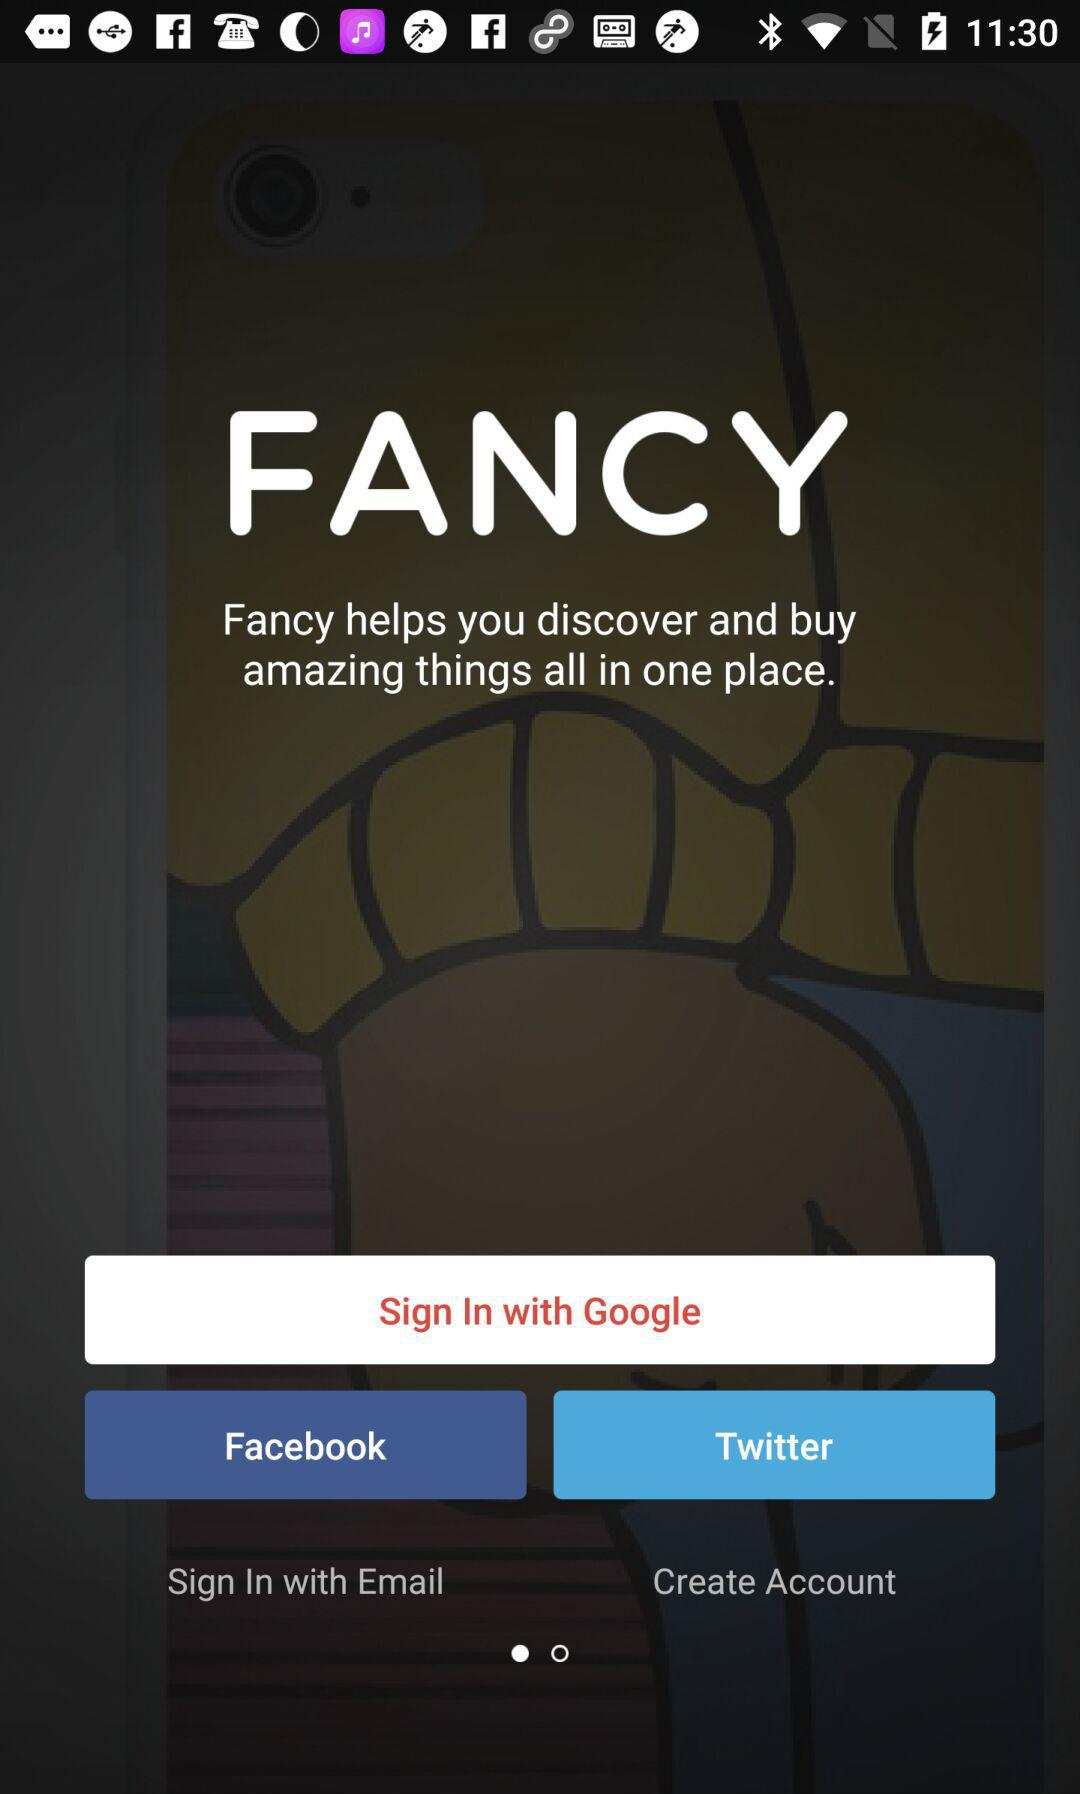BackgroundImage: (1, 64, 1080, 1794)
PageIndicator: (510, 1643, 571, 1665)
Text: (228, 409, 849, 538), (224, 601, 858, 696), (168, 1566, 445, 1603), (653, 1566, 898, 1598)
TextButton: (85, 1255, 995, 1365), (85, 1390, 528, 1501), (553, 1390, 995, 1501)
UpperTaskBar: (1, 1, 1080, 64)
